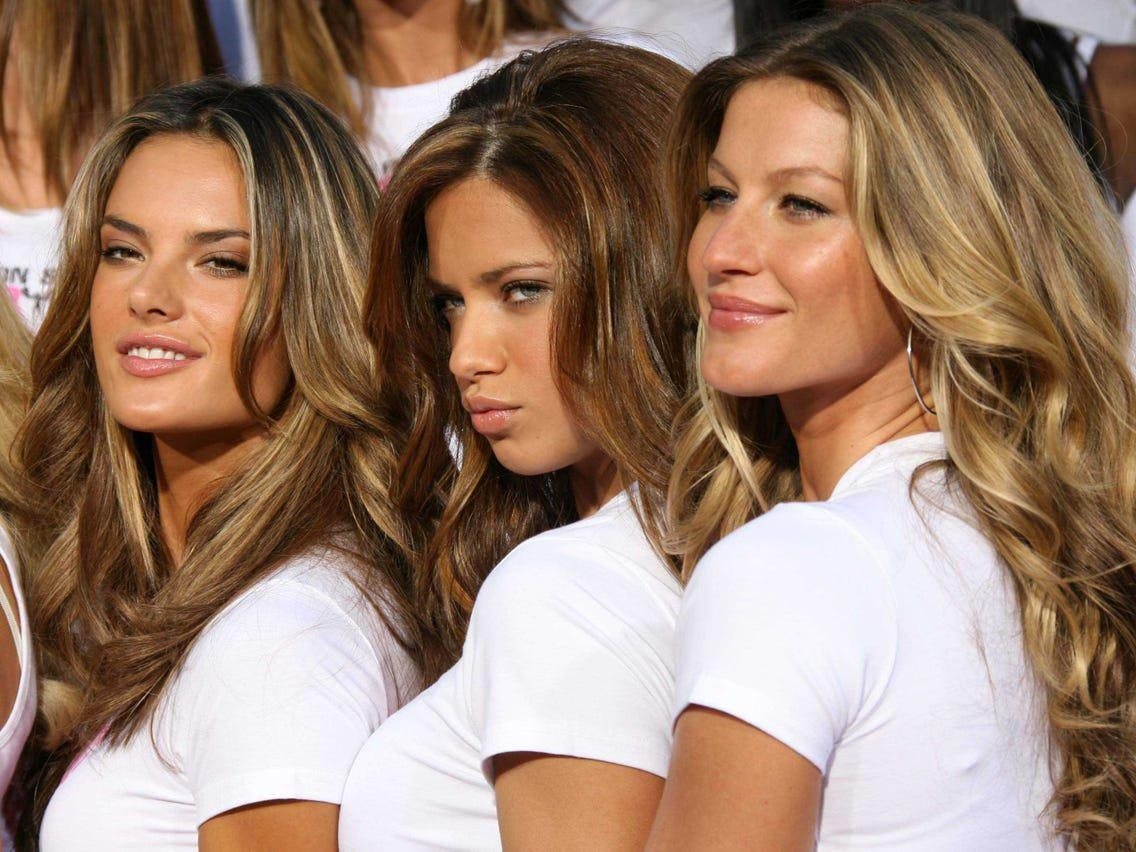Sober: (693, 108, 900, 381), (95, 152, 273, 411), (411, 188, 574, 454)
